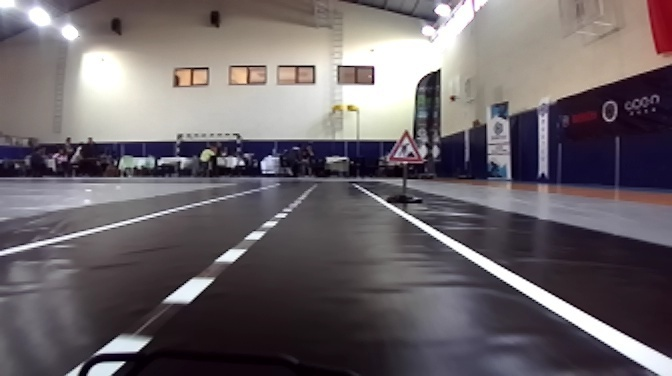yol_yapimi: (384, 128, 428, 166)
